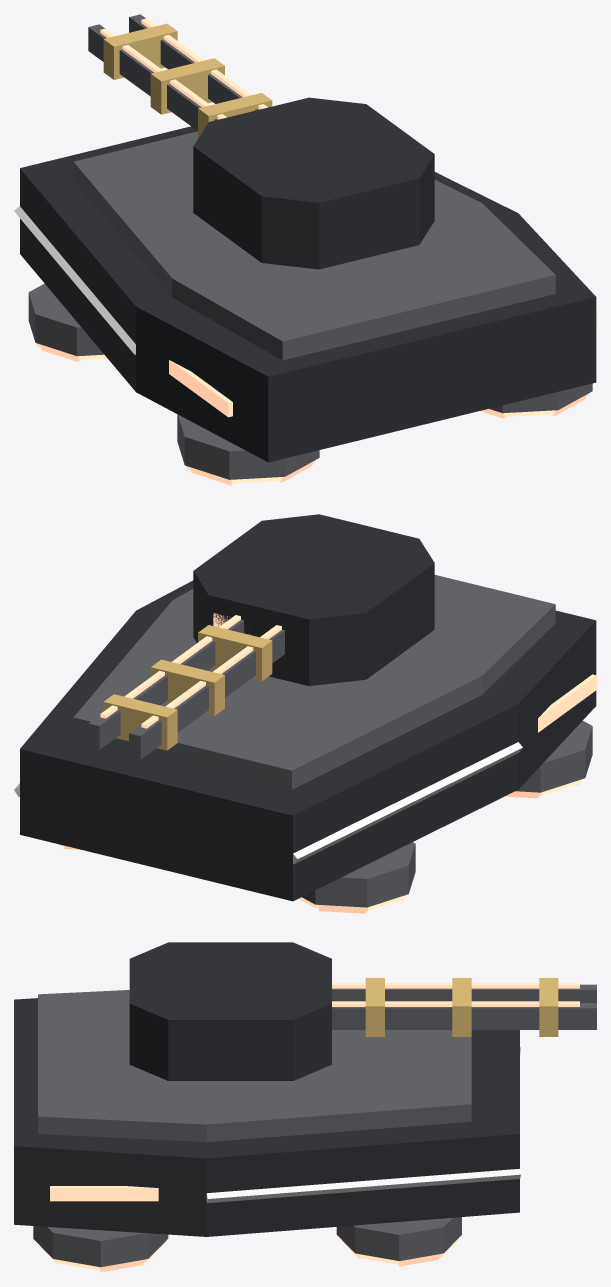
Rendered from Aegis_Lancer.fbx.
The picture shows the model from 3 angles, top to bottom: view 1: azimuth 30°, elevation 25°; view 2: azimuth 150°, elevation 25°; view 3: azimuth 270°, elevation 25°; orthographic projection. The views are drawn at different scales.
Visible parts, largest first — view 1: LAN_Body, LAN_Deck, LAN_Turret, LAN_PadB-1, LAN_PadF-1, LAN_Rail-1, LAN_RailClamp2, LAN_RailClamp1, LAN_Trim-1, LAN_Rail1, LAN_PadB1, LAN_RailClamp0 (+4 smaller); view 2: LAN_Body, LAN_Deck, LAN_Turret, LAN_PadF-1, LAN_Rail-1, LAN_Trim-1, LAN_PadB-1, LAN_Rail1, LAN_RailClamp2, LAN_RailClamp0, LAN_RailClamp1, LAN_SideLight-1 (+3 smaller); view 3: LAN_Body, LAN_Deck, LAN_Turret, LAN_Rail1, LAN_PadF1, LAN_PadB1, LAN_Trim1, LAN_Rail-1, LAN_SideLight1, LAN_RailClamp0, LAN_RailClamp1, LAN_RailClamp2 (+4 smaller).
Part boxes in pixels (x1=…): LAN_Body: x1=20, y1=126, x2=596, y2=462; LAN_Deck: x1=73, y1=131, x2=555, y2=360; LAN_Turret: x1=193, y1=97, x2=434, y2=269; LAN_PadB-1: x1=177, y1=414, x2=319, y2=479; LAN_PadF-1: x1=28, y1=283, x2=103, y2=356; LAN_Rail-1: x1=88, y1=24, x2=217, y2=130; LAN_RailClamp2: x1=103, y1=23, x2=177, y2=79; LAN_RailClamp1: x1=150, y1=58, x2=224, y2=114; LAN_Trim-1: x1=14, y1=206, x2=135, y2=354; LAN_Rail1: x1=129, y1=14, x2=258, y2=110; LAN_PadB1: x1=489, y1=383, x2=592, y2=413; LAN_RailClamp0: x1=198, y1=93, x2=272, y2=138; LAN_Body: x1=20, y1=580, x2=596, y2=901; LAN_Deck: x1=73, y1=575, x2=555, y2=789; LAN_Turret: x1=193, y1=514, x2=434, y2=685; LAN_PadF-1: x1=302, y1=842, x2=415, y2=907; LAN_Rail-1: x1=129, y1=629, x2=284, y2=759; LAN_Trim-1: x1=293, y1=742, x2=522, y2=863; LAN_PadB-1: x1=515, y1=721, x2=592, y2=792; LAN_Rail1: x1=88, y1=619, x2=243, y2=749; LAN_RailClamp2: x1=103, y1=694, x2=177, y2=750; LAN_RailClamp0: x1=198, y1=625, x2=272, y2=681; LAN_RailClamp1: x1=150, y1=659, x2=224, y2=715; LAN_SideLight-1: x1=538, y1=674, x2=596, y2=732; LAN_Body: x1=14, y1=998, x2=519, y2=1236; LAN_Deck: x1=38, y1=990, x2=471, y2=1141; LAN_Turret: x1=129, y1=942, x2=331, y2=1080; LAN_Rail1: x1=332, y1=1003, x2=596, y2=1029; LAN_PadF1: x1=336, y1=1217, x2=461, y2=1260; LAN_PadB1: x1=33, y1=1226, x2=168, y2=1267; LAN_Trim1: x1=206, y1=1168, x2=520, y2=1203; LAN_Rail-1: x1=332, y1=984, x2=596, y2=1002; LAN_SideLight1: x1=50, y1=1186, x2=158, y2=1201; LAN_RailClamp0: x1=365, y1=978, x2=384, y2=1036; LAN_RailClamp1: x1=452, y1=978, x2=471, y2=1036; LAN_RailClamp2: x1=539, y1=978, x2=558, y2=1036.
Bounding box in the file's own units: 0.88 × 0.4689 × 1.21.
